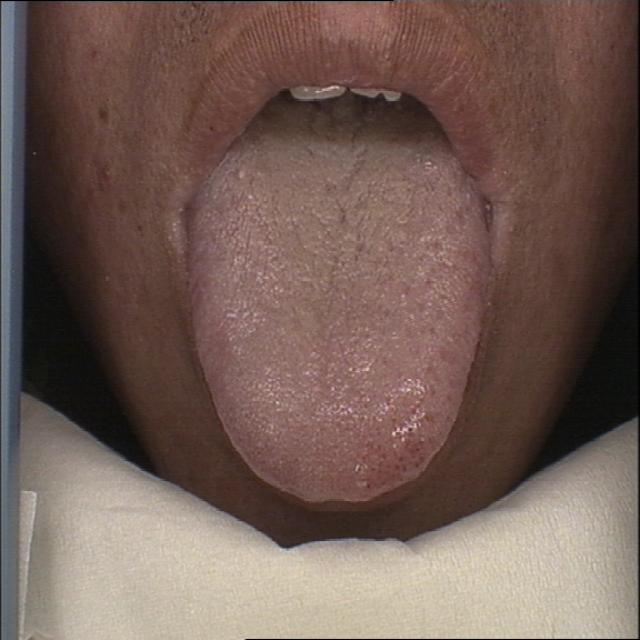tongue: (185, 139, 492, 507)
